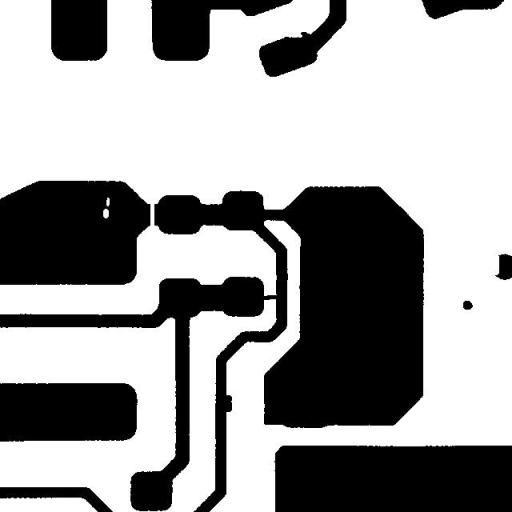copper: (455, 293, 480, 317)
mousebite: (278, 22, 310, 45), (486, 246, 506, 282)
open: (142, 193, 162, 238)
pin-hole: (95, 200, 116, 226)
short: (249, 287, 288, 307)
spur: (214, 386, 239, 420)
